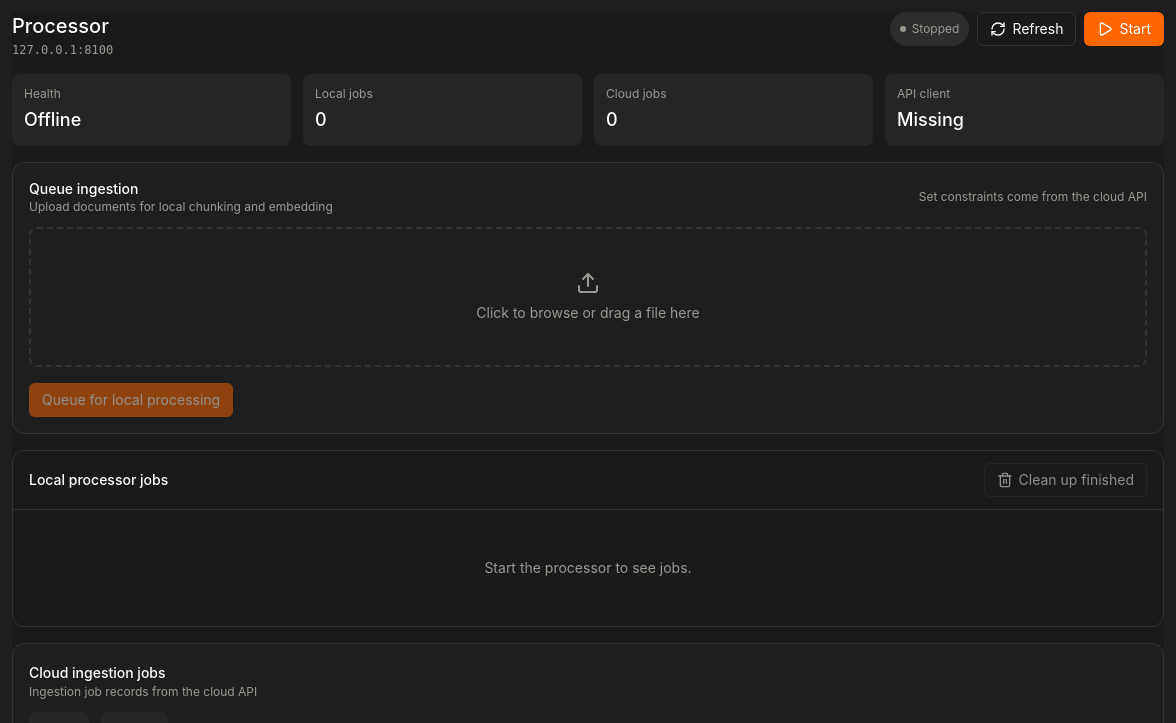
Test: ProcessorScreen — cloud job source file name subtitle › selects a local file and clears the selection
The image size is (1176, 723).
Expected: the text "Stopped" is shown, top-left (890, 12), bottom-right (970, 46)
What coordinates should you click on to do the following:
click the text "Click to browse or drag a file here"
I would click on:
 (588, 313)
Its box is top-left (476, 303), bottom-right (700, 323).
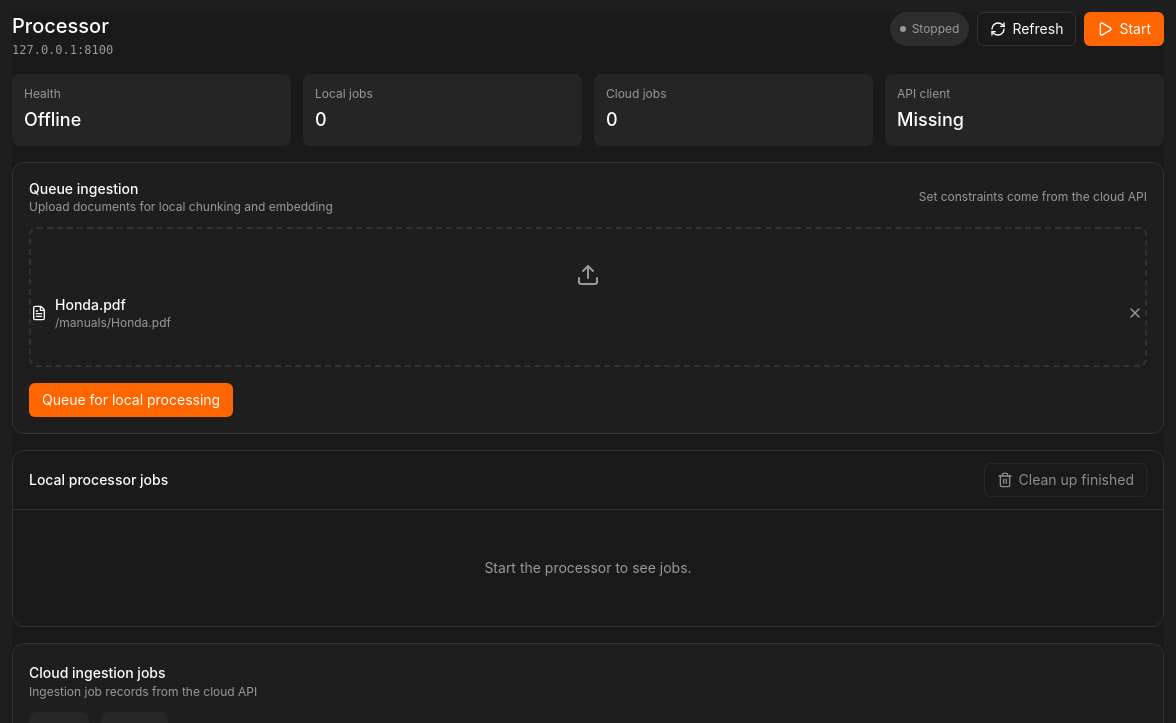
Expected: the text "Honda.pdf" is shown, top-left (55, 296), bottom-right (126, 313)
Expected: the text "/manuals/Honda.pdf" is shown, top-left (55, 315), bottom-right (171, 330)
What coordinates should you click on to do the following:
click the 3rd button
I would click on:
 (1135, 313)
Its box is top-left (1125, 303), bottom-right (1145, 323).
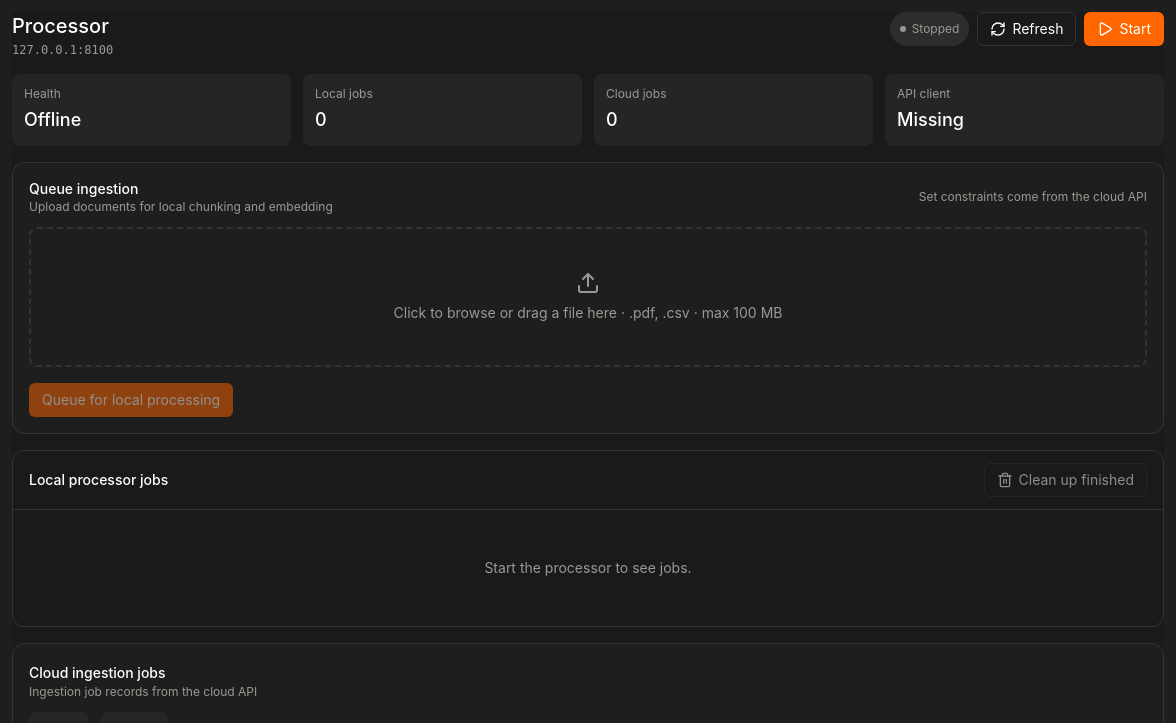
Expected: the text "Click to browse or drag a file here" is shown, top-left (394, 304), bottom-right (617, 321)
